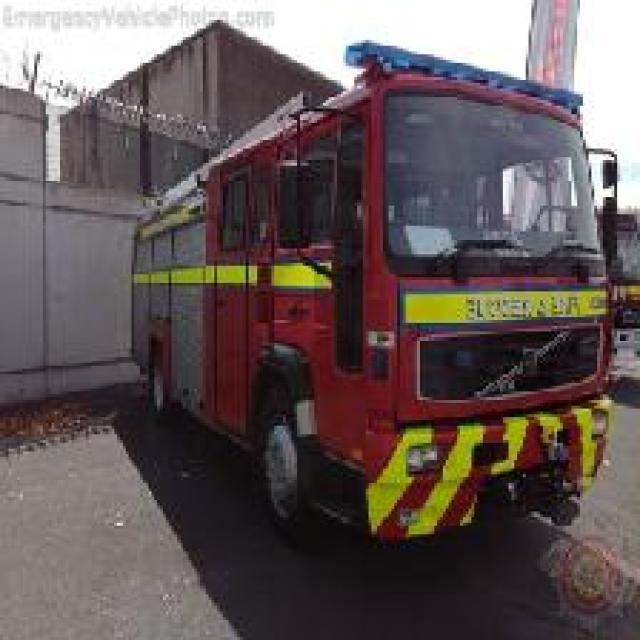emergency: (127, 38, 626, 550)
